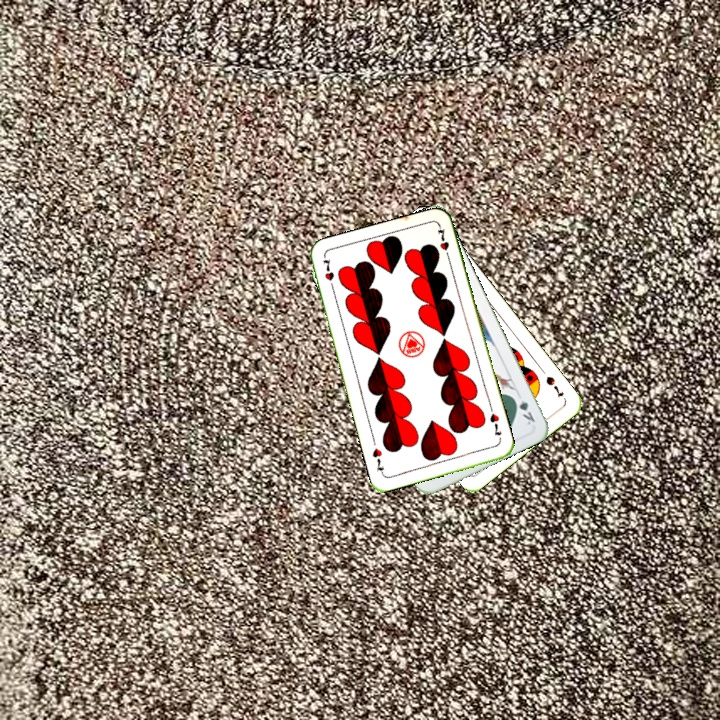GK: (509, 389, 538, 428)
H7: (319, 254, 337, 294), (486, 409, 504, 438)
S7: (542, 372, 566, 400)
